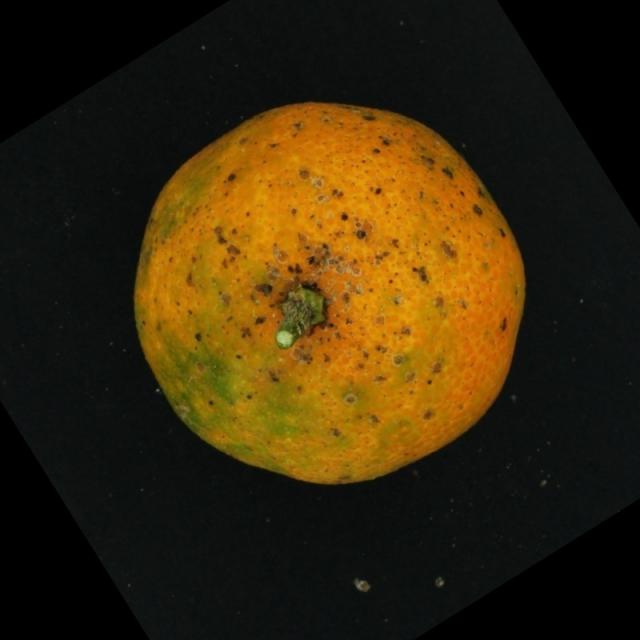grenning: (122, 76, 539, 497)
